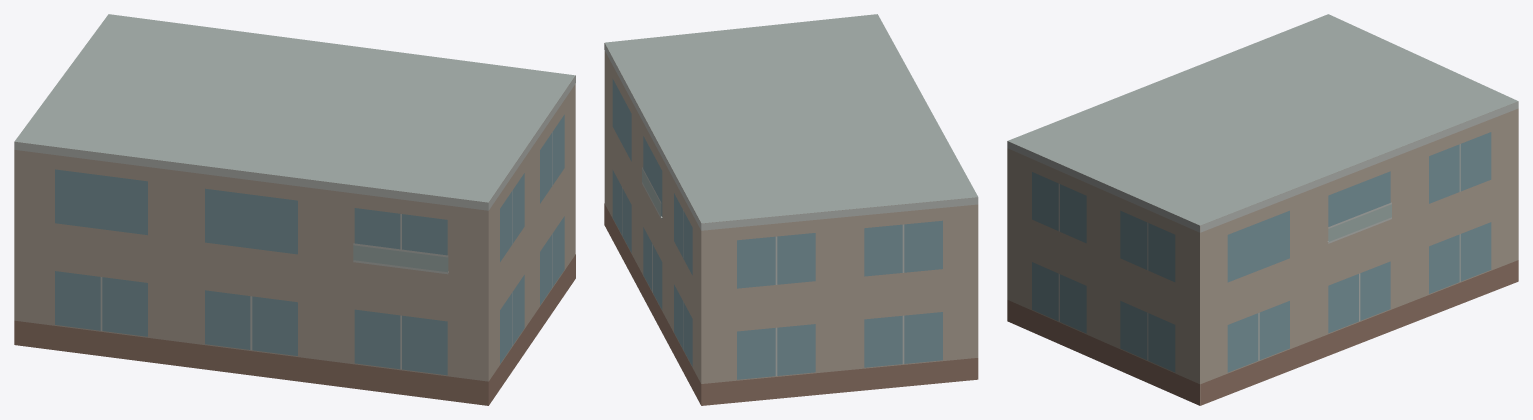
File: survey-upis-33016414.glb
3 views of the same model, side by side, from view 1: azimuth 30°, elevation 25°; view 2: azimuth 150°, elevation 25°; view 3: azimuth 270°, elevation 25° (orthographic). The views are drawn at different scales.
Parts seen in each view (by area): view 1: survey-upis-33016414.tmp; view 2: survey-upis-33016414.tmp; view 3: survey-upis-33016414.tmp.
Boxes of the visible parts, x1,y1,x2,y2 form: survey-upis-33016414.tmp: [14, 14, 575, 405]; survey-upis-33016414.tmp: [604, 14, 978, 405]; survey-upis-33016414.tmp: [1007, 14, 1518, 405].
Size of the model in its own units: 15.37 by 6.1 by 15.69.
